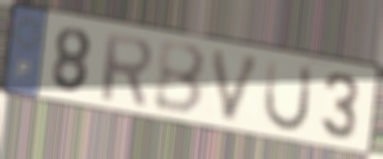3: (317, 71, 364, 141)
8: (51, 26, 93, 95)
B: (152, 40, 209, 119)
R: (99, 29, 155, 109)
U: (260, 56, 316, 134)
V: (209, 46, 266, 126)
